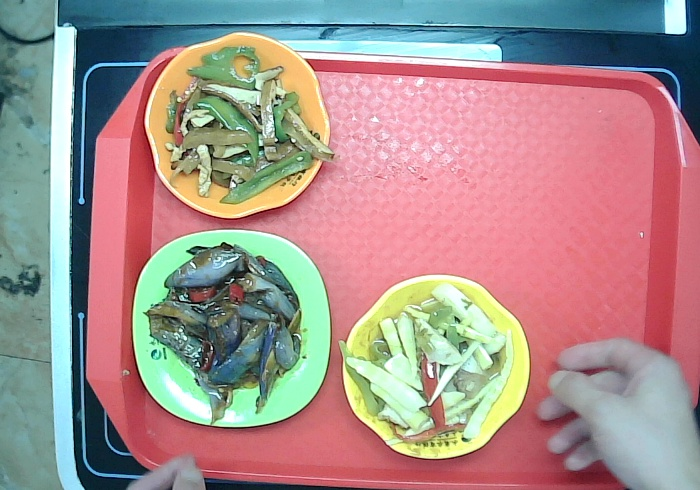YKMZ-Huang_Se_Ao_Bian_Wan: (339, 274, 532, 462)
YKMZ-Ju_Se_Ao_Bian_Wan: (141, 29, 332, 220)
YKMZ-Lv_Se_Fang_Die: (130, 226, 333, 430)
